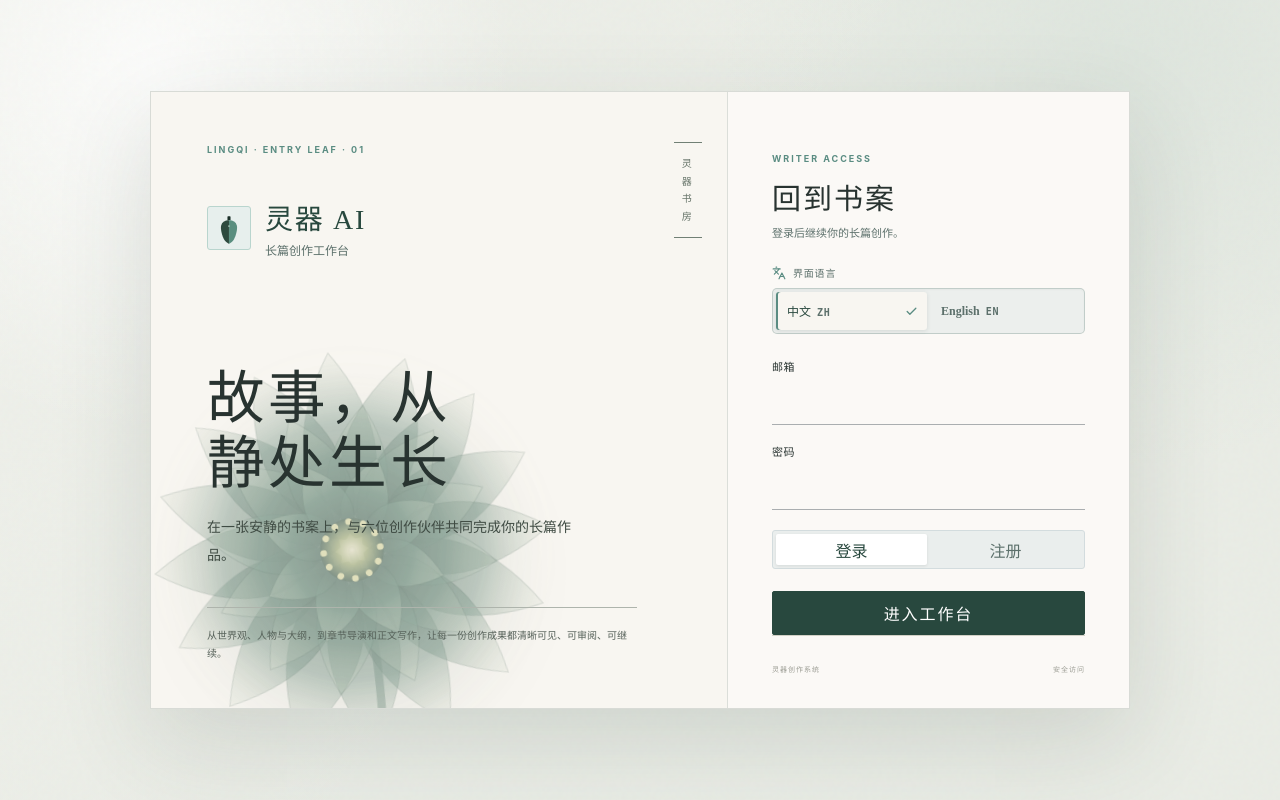
Test: App › shows the referral notice after a fresh login
In the field labelled "邮箱": (928, 404) [772,382,1085,425], type "u@example.com"
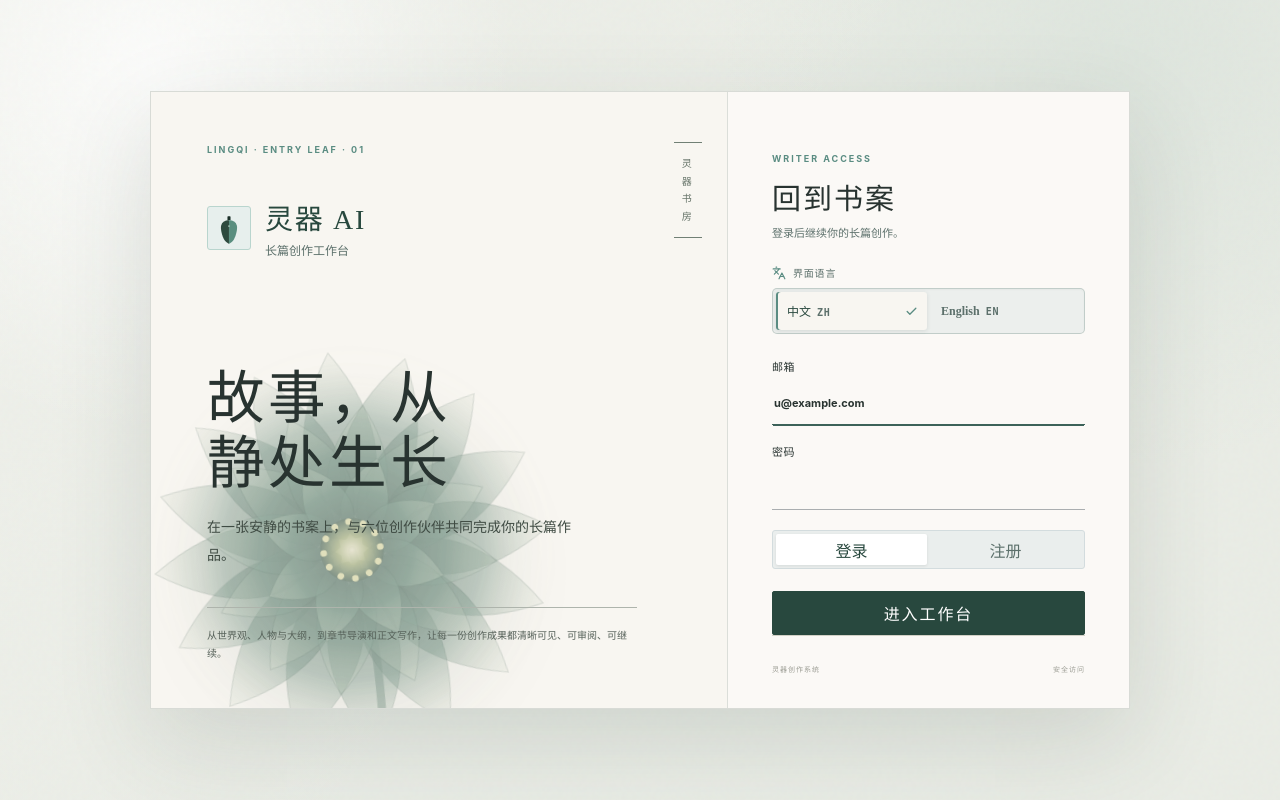
In the password field labelled "密码": (928, 488) [772,467,1085,510], type "secret"
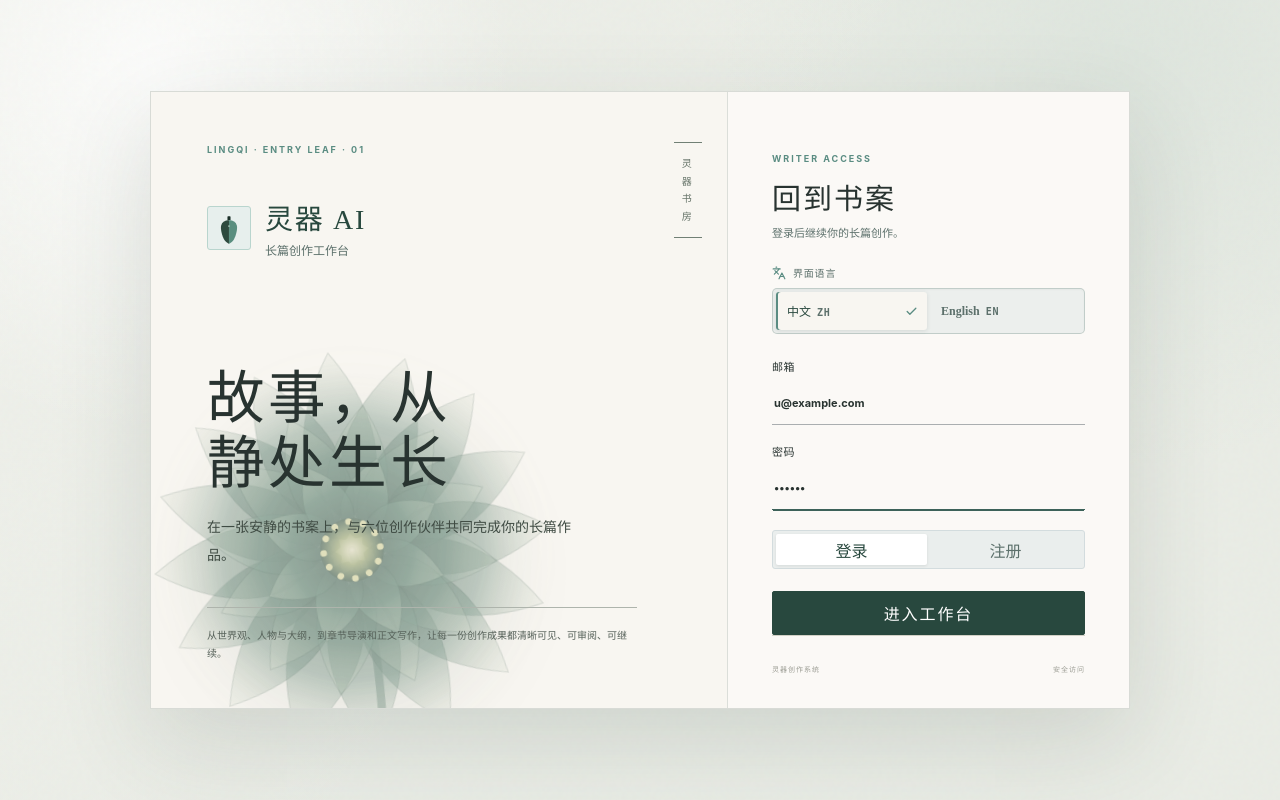
Click the button "进入工作台": (928, 613) [772,591,1085,635]
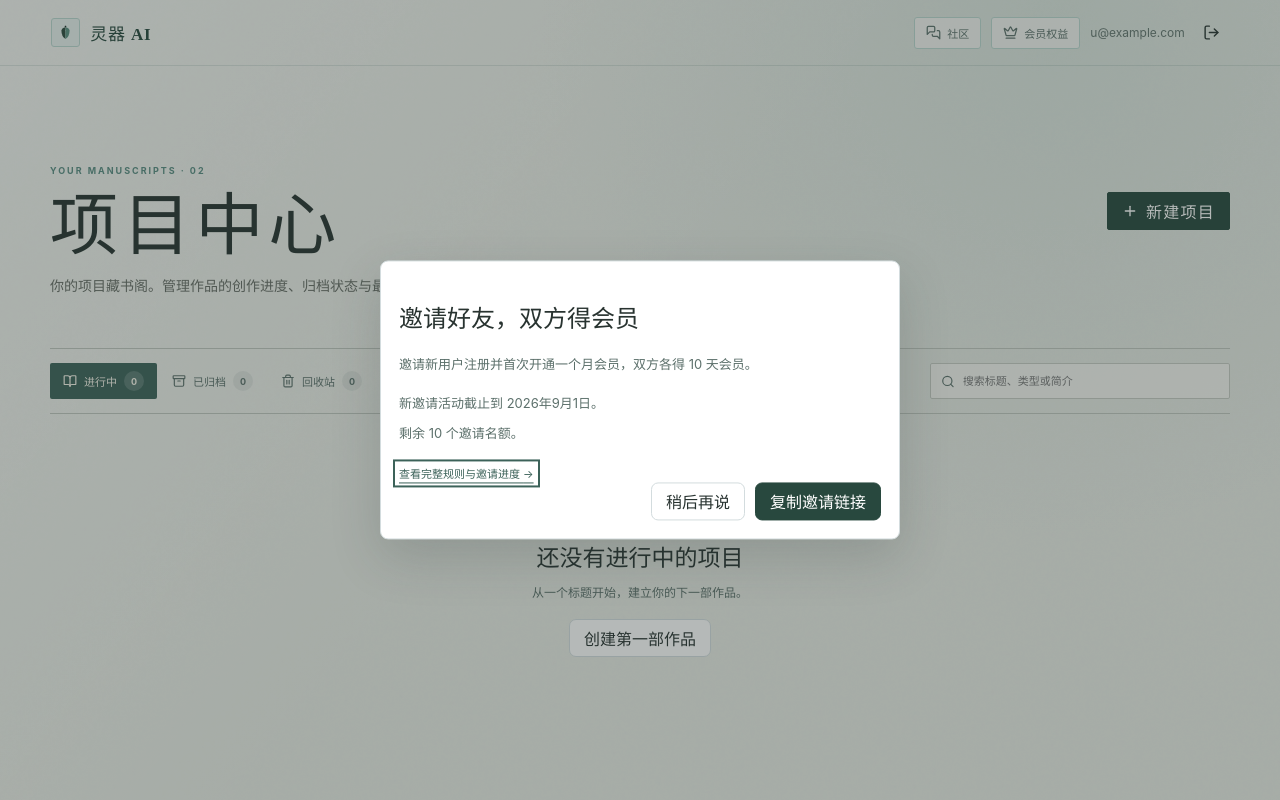
Expected: the dialog "邀请好友，双方得会员" is shown, [380,260,900,540]
